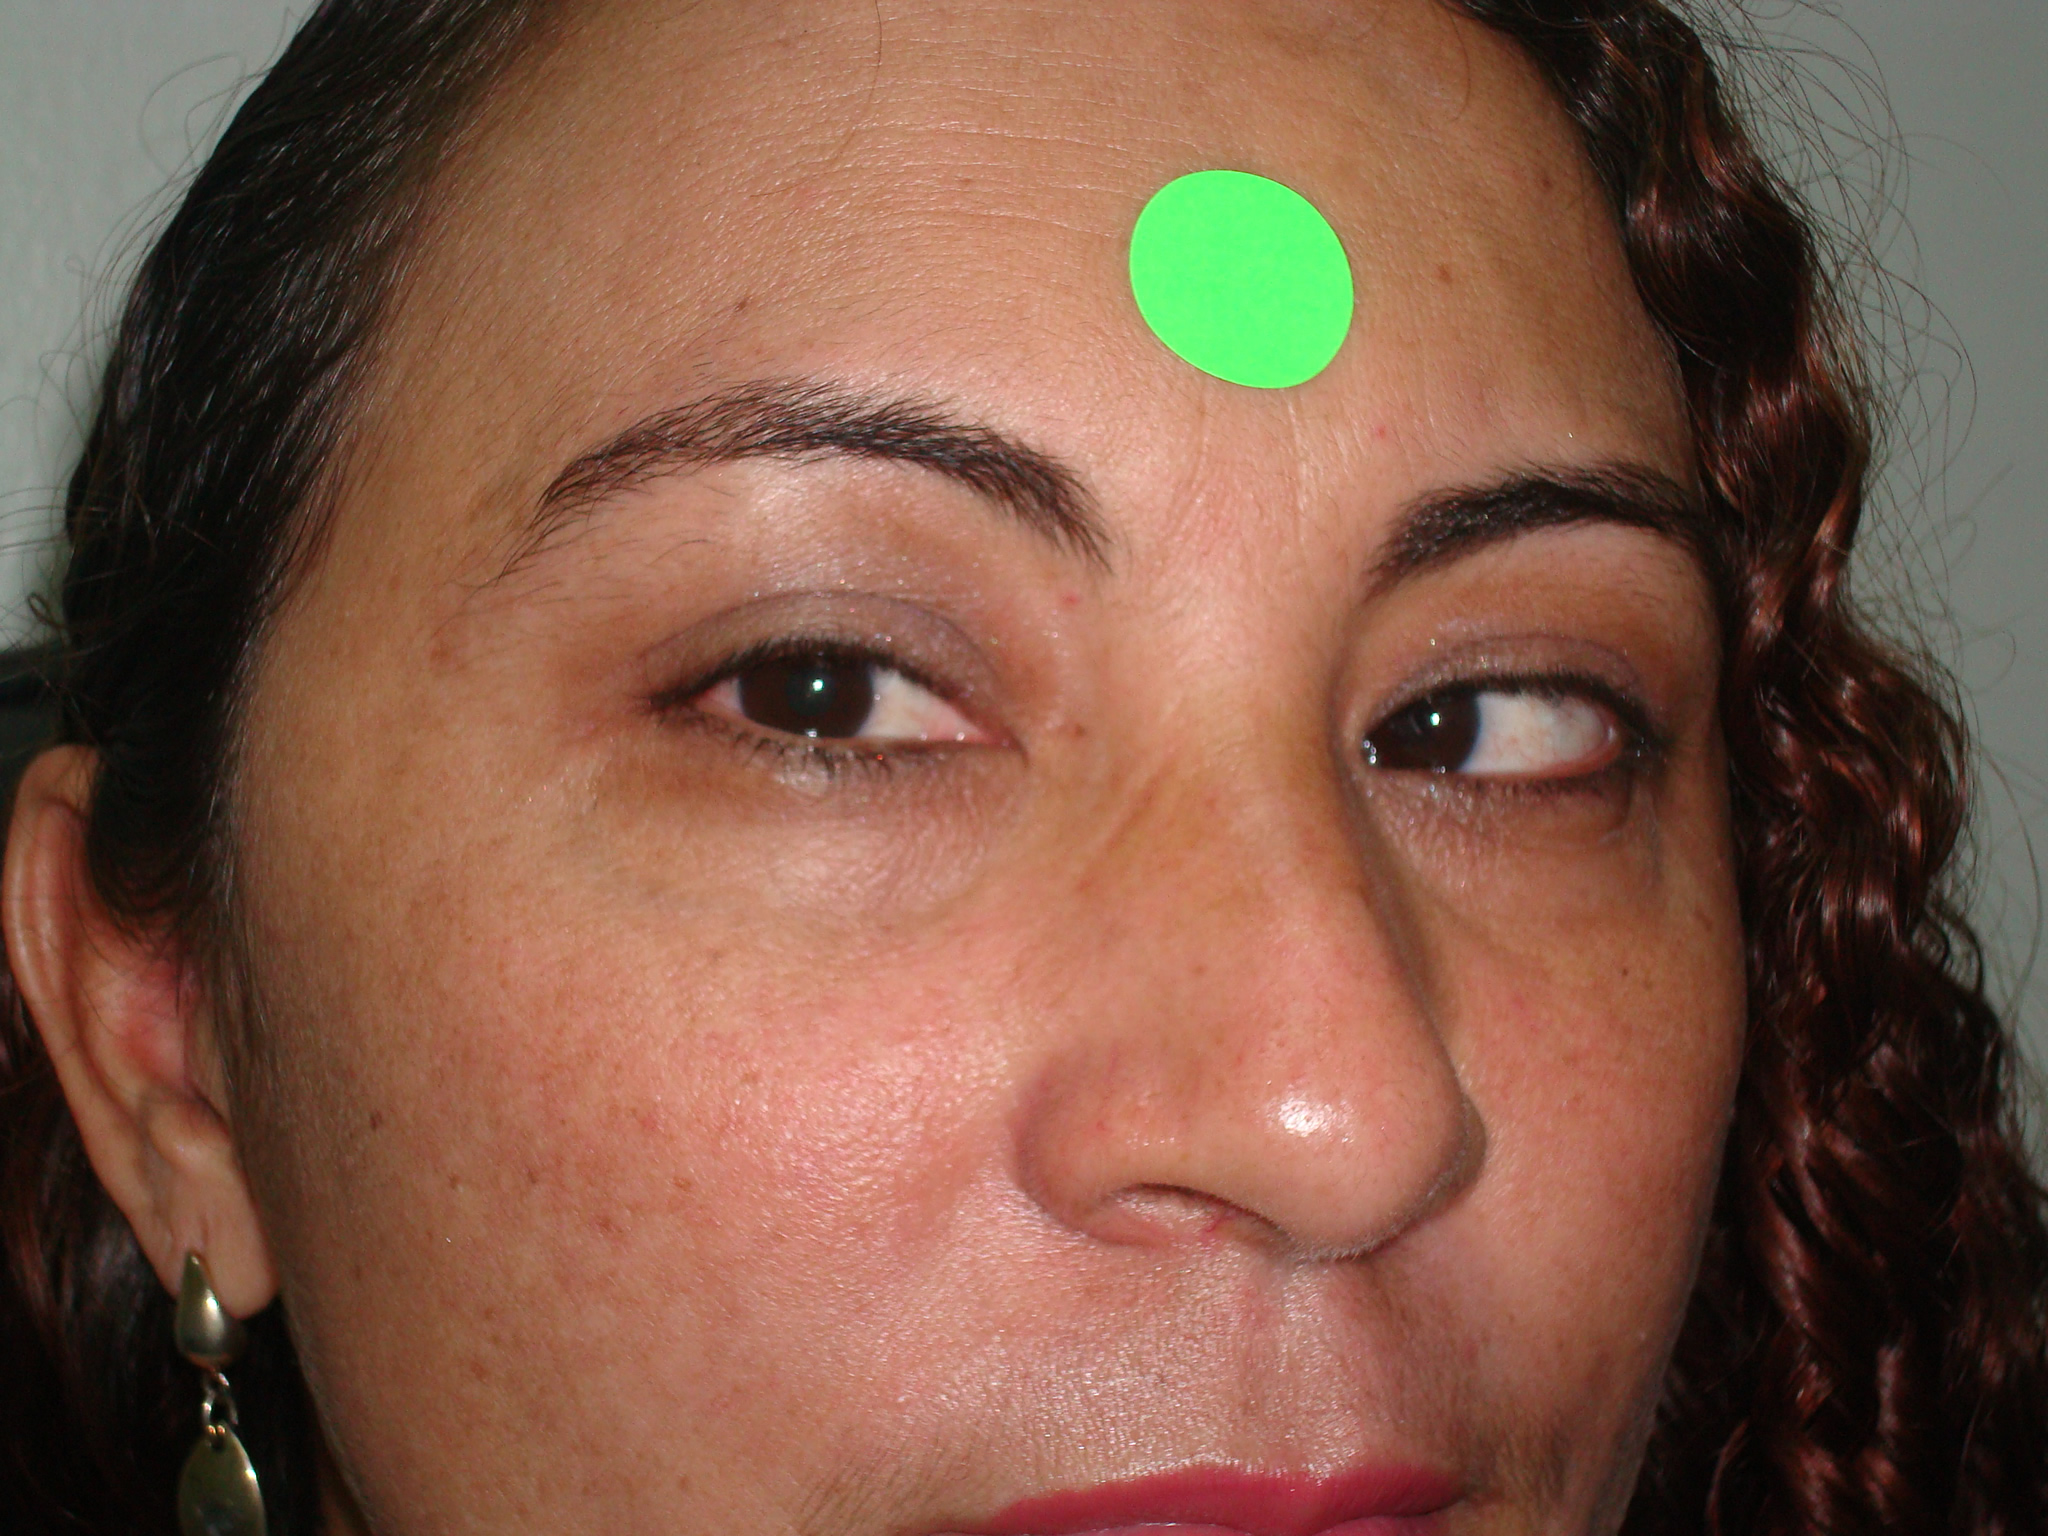flash: (805, 673, 832, 697), (1422, 705, 1447, 731)
limbo: (748, 632, 874, 752), (1359, 673, 1471, 776)
